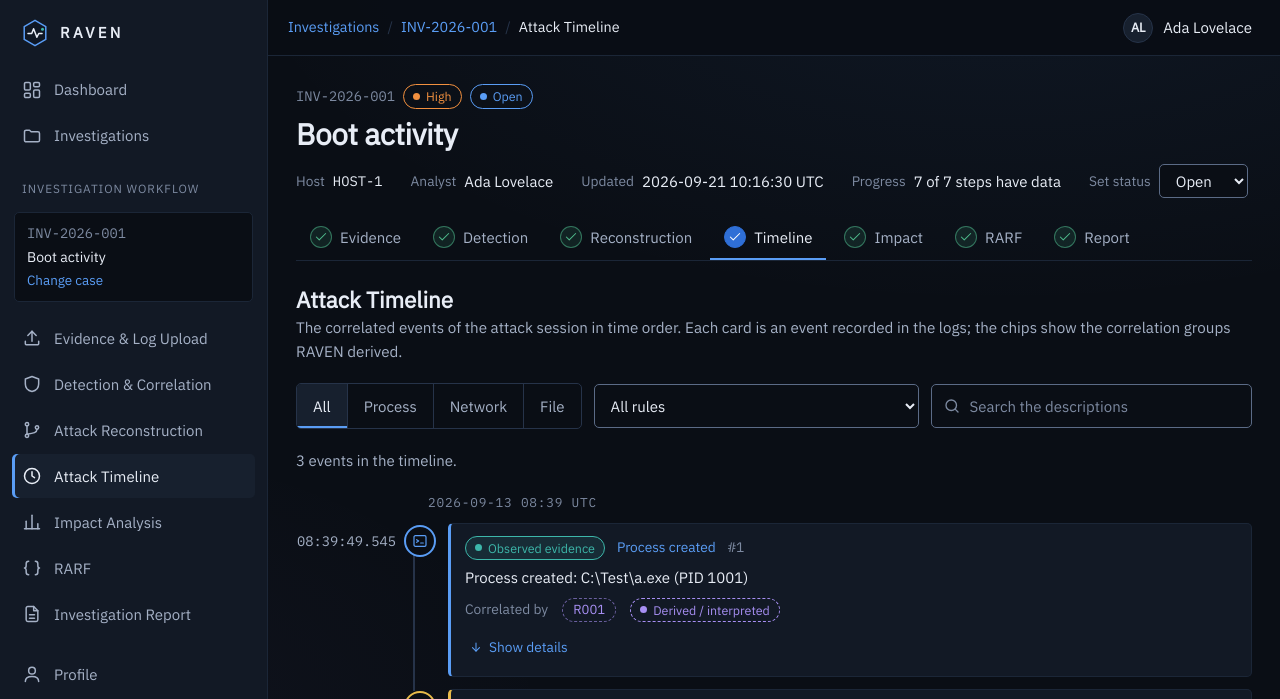
Test case: Timeline: the events › keeps the technical details of an event collapsed until asked
expect the heading "Attack Timeline" is shown: met, box left=296, top=285, right=453, bottom=314
expect the text "3 events in the timeline." is shown: met, box left=296, top=452, right=457, bottom=470
Step 1. Click the button "Show details" → (518, 647), box left=465, top=630, right=572, bottom=664
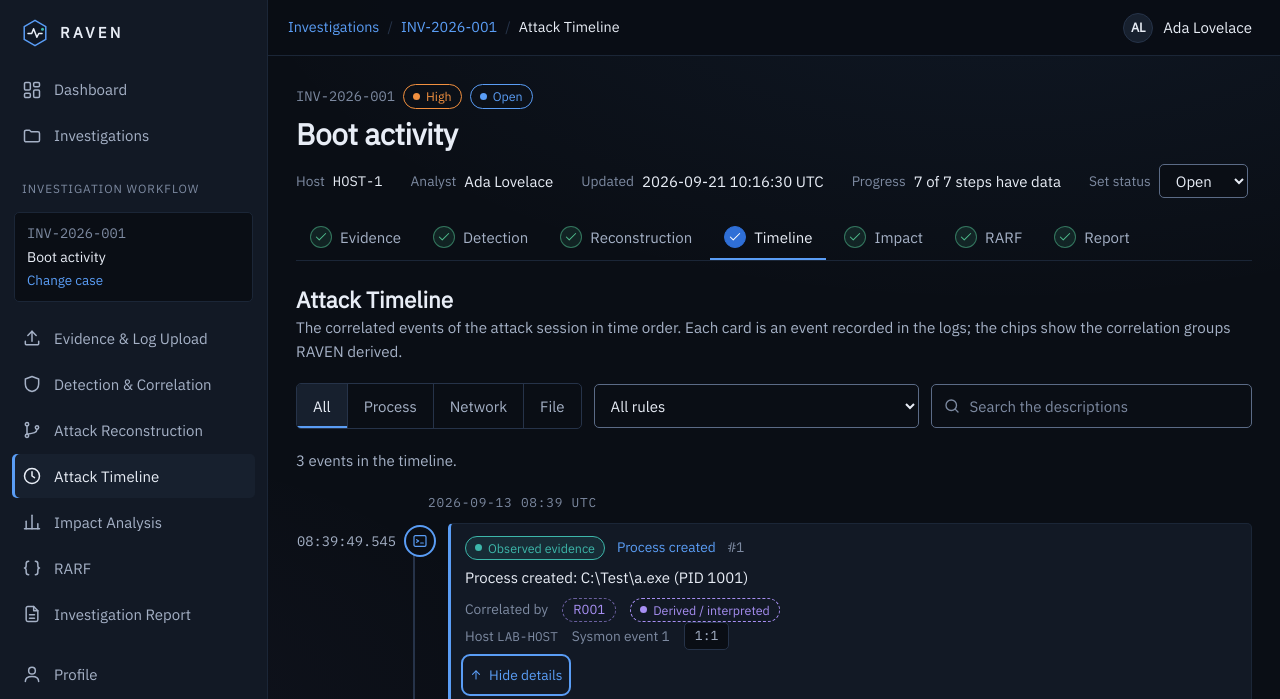
expect the button "Hide details" is expanded: met, box left=465, top=658, right=566, bottom=692
